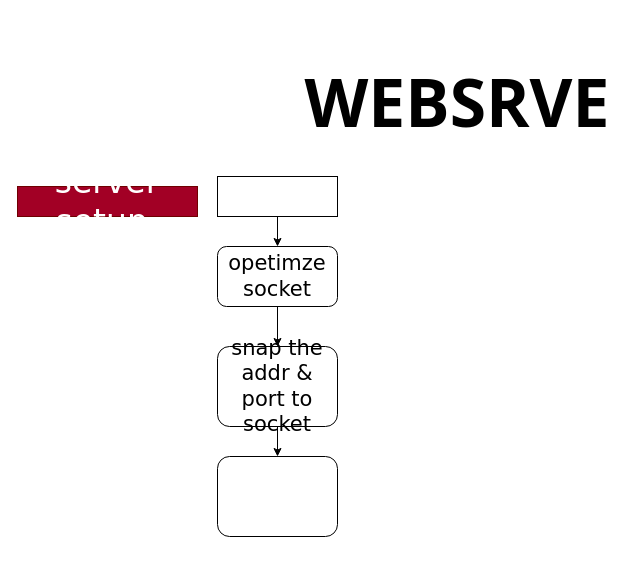
Image size: 627x564. Some labels were removed from this diagram. Each missing label, with the box of its shape:
create socket: (216, 176, 338, 216)
start listening to coming request: (216, 456, 338, 536)
